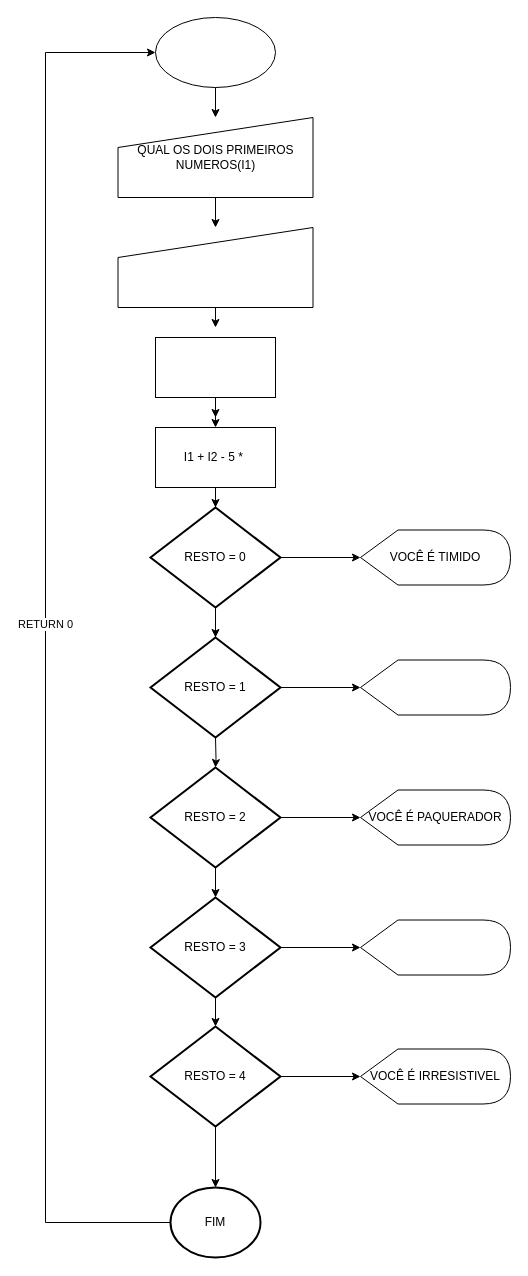
The diagram is 528 pixels wide and 1276 high, and some of its shapes have lost their labels. The shapes that lost their labels are listed below. From the top down, each one's centre as x and y in pixels, then its label:
point 215,52: INIICIO
point 215,267: QUAL OS DOIS ULTIMOS NUMEROS(I2)
point 215,367: IDADE = (I1 + I2) / 5
point 435,687: VOCÊ É SONHADOR
point 435,947: VOCÊ É ATRAENTE
